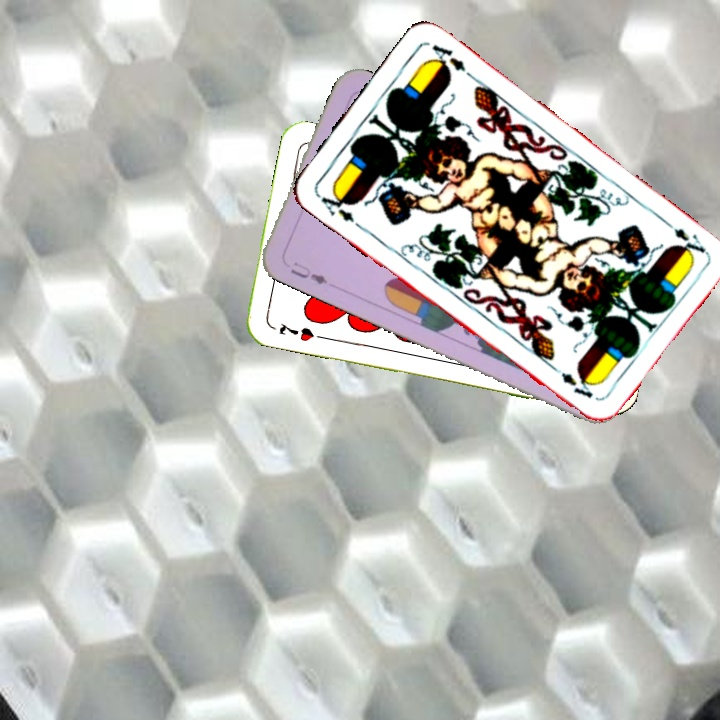EA: (313, 185, 364, 231), (659, 215, 709, 261)
EU: (286, 258, 330, 287)
H7: (275, 319, 317, 344)
